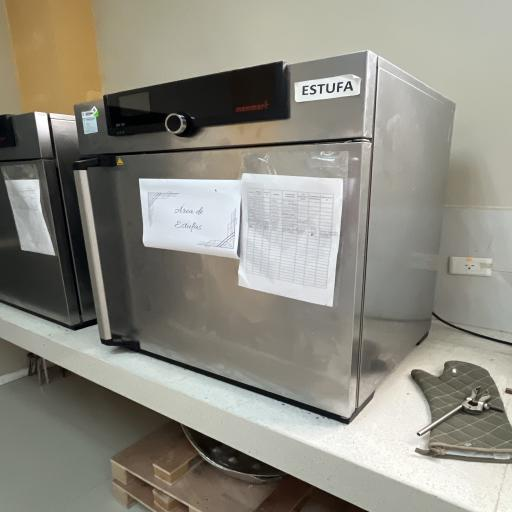Estufa_Memmert: (72, 41, 461, 433)
